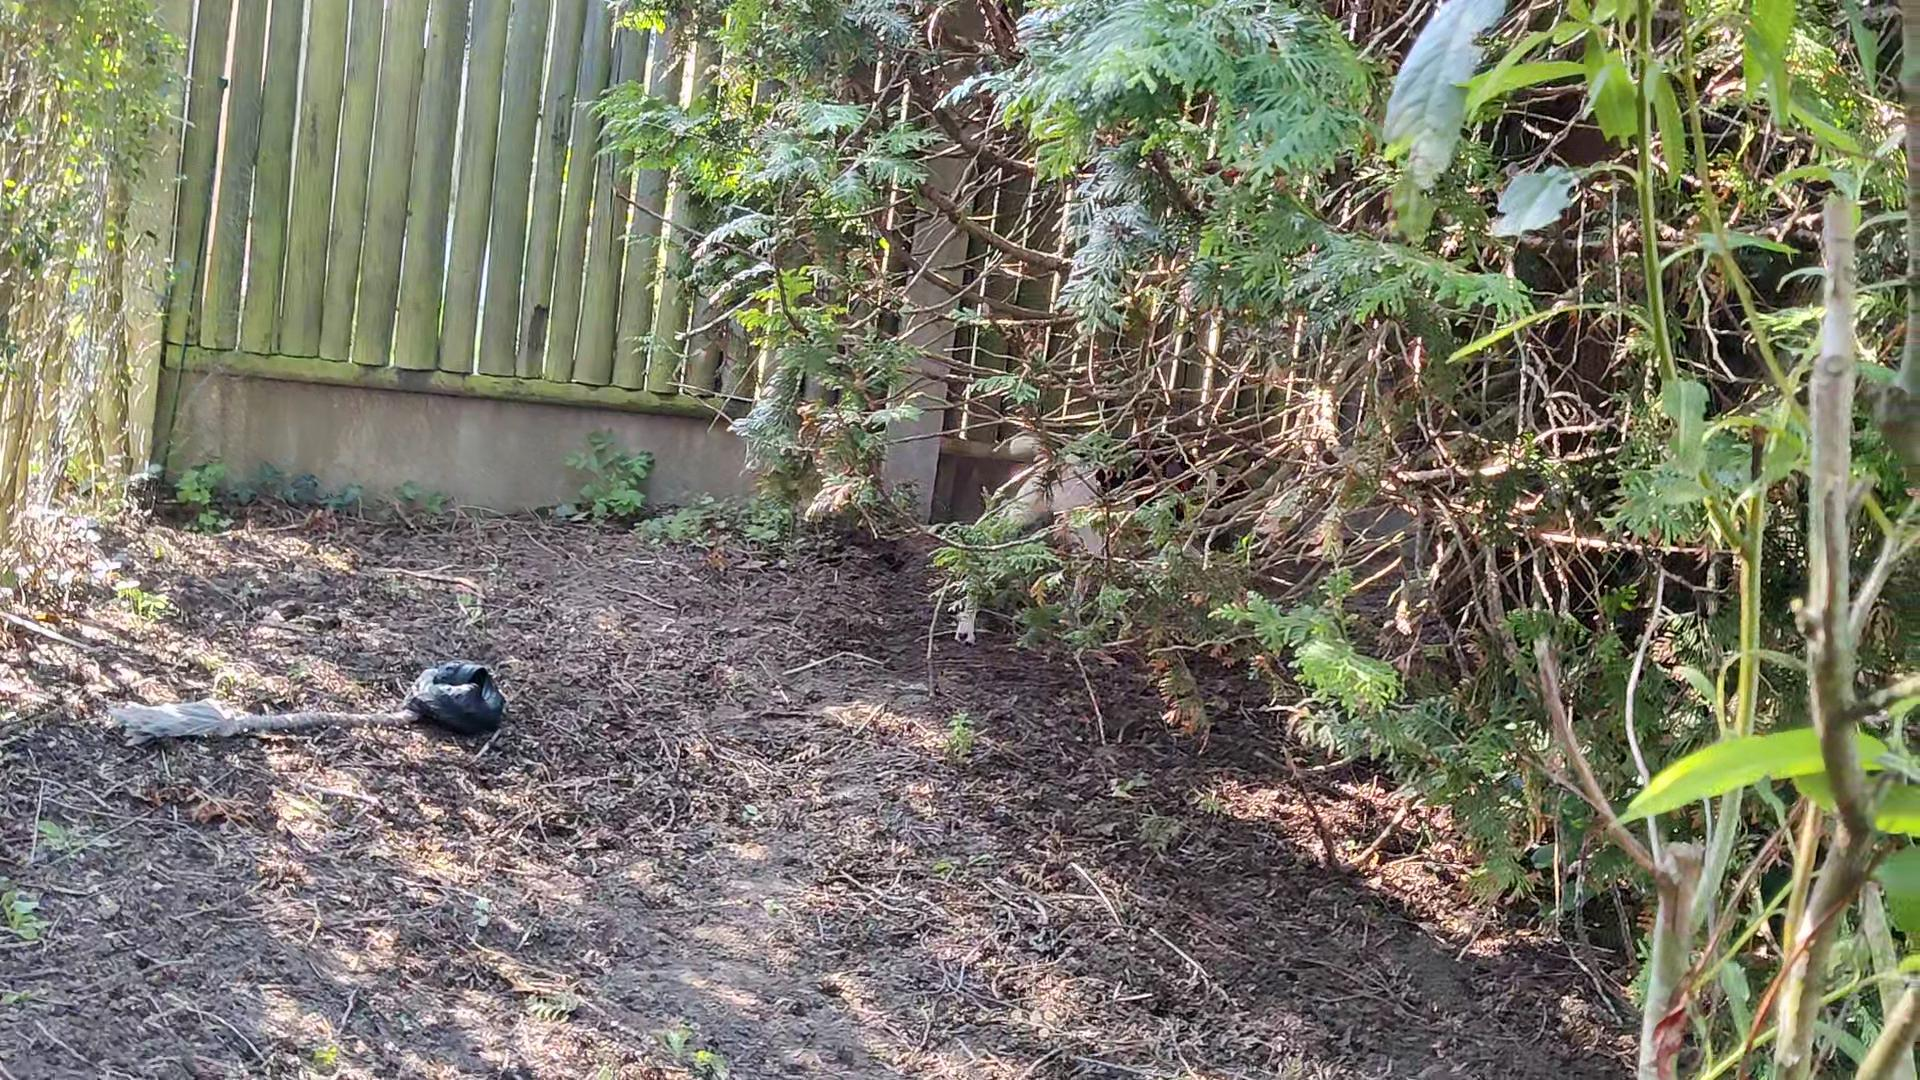Dog: (948, 425, 1247, 650)
